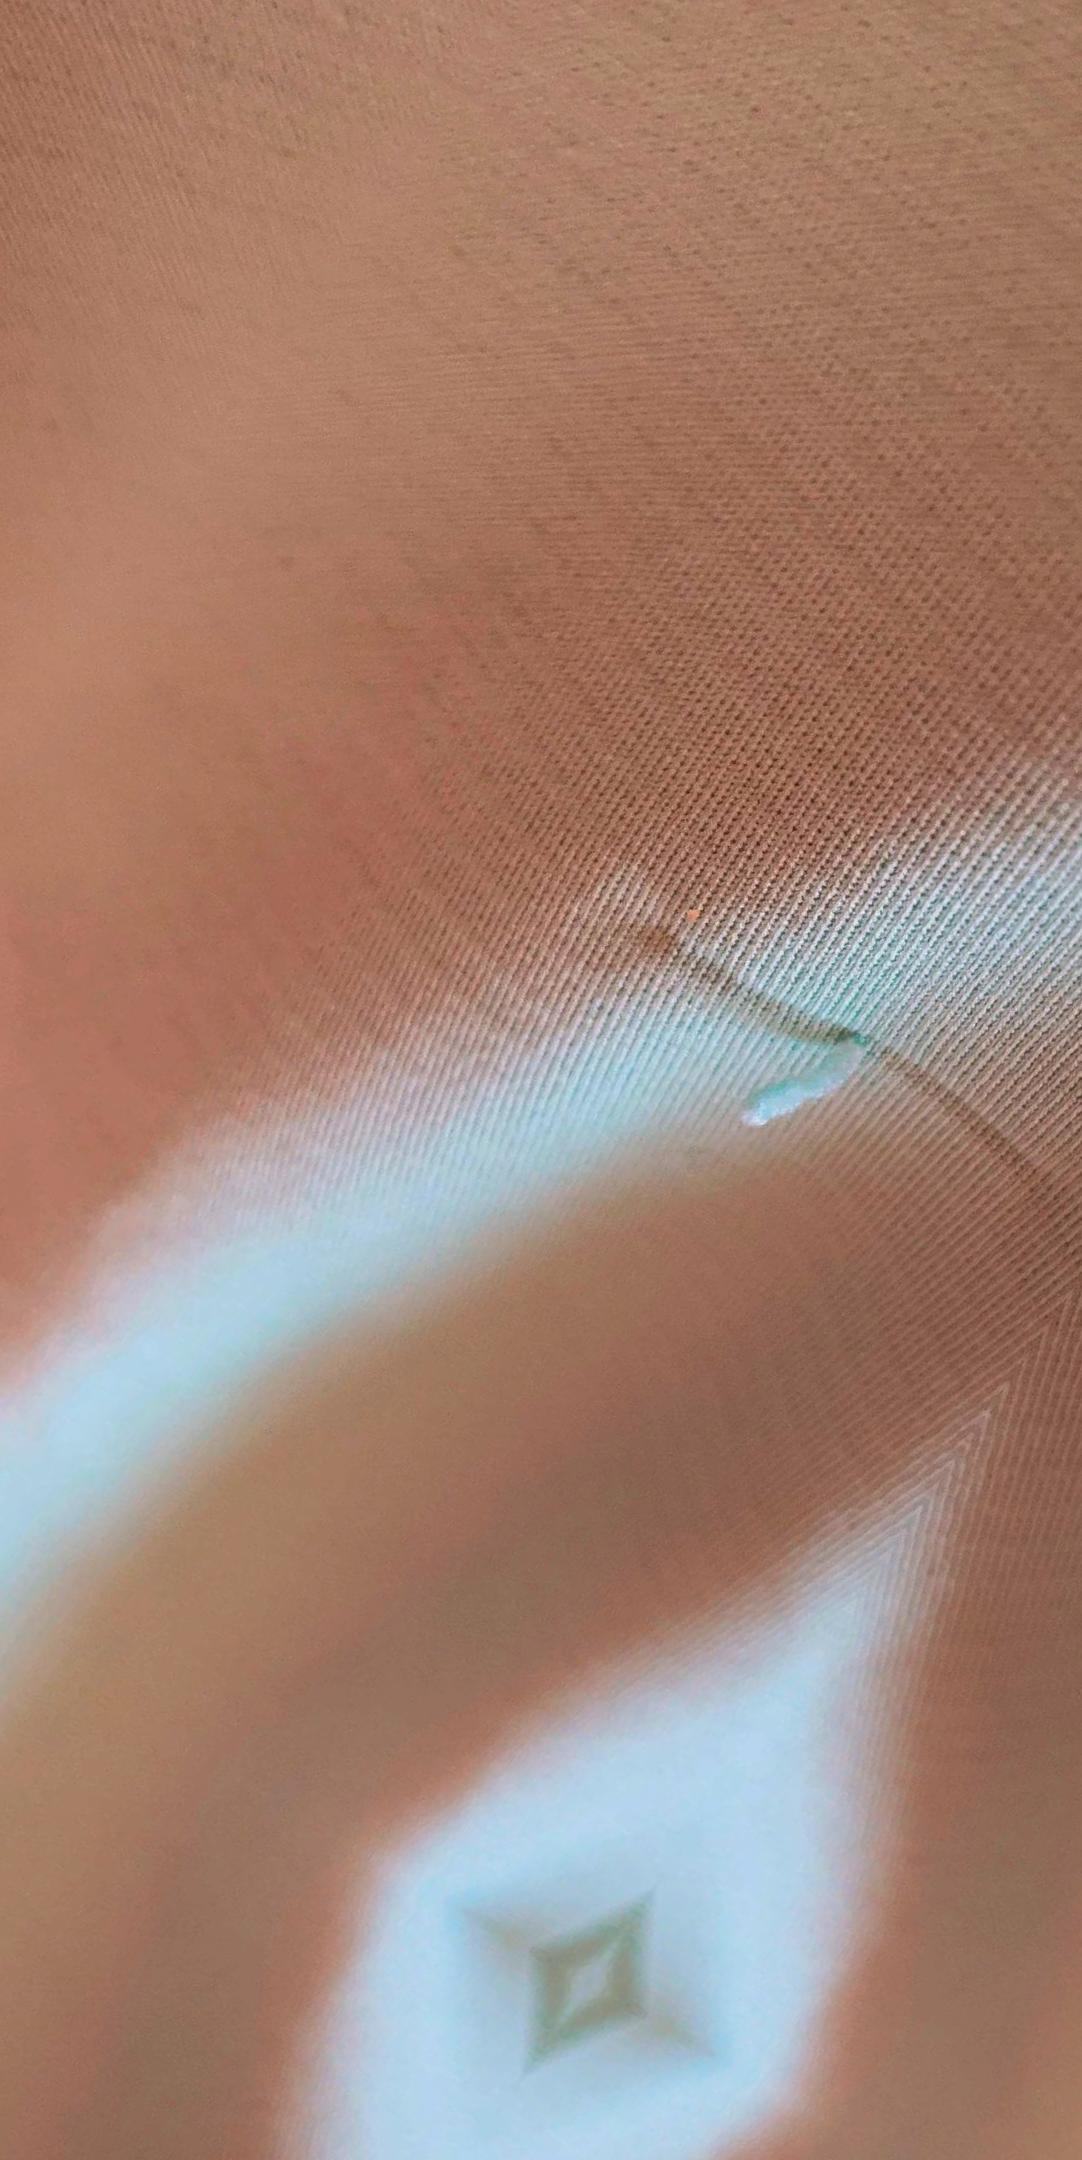snag: (715, 946, 912, 1218)
